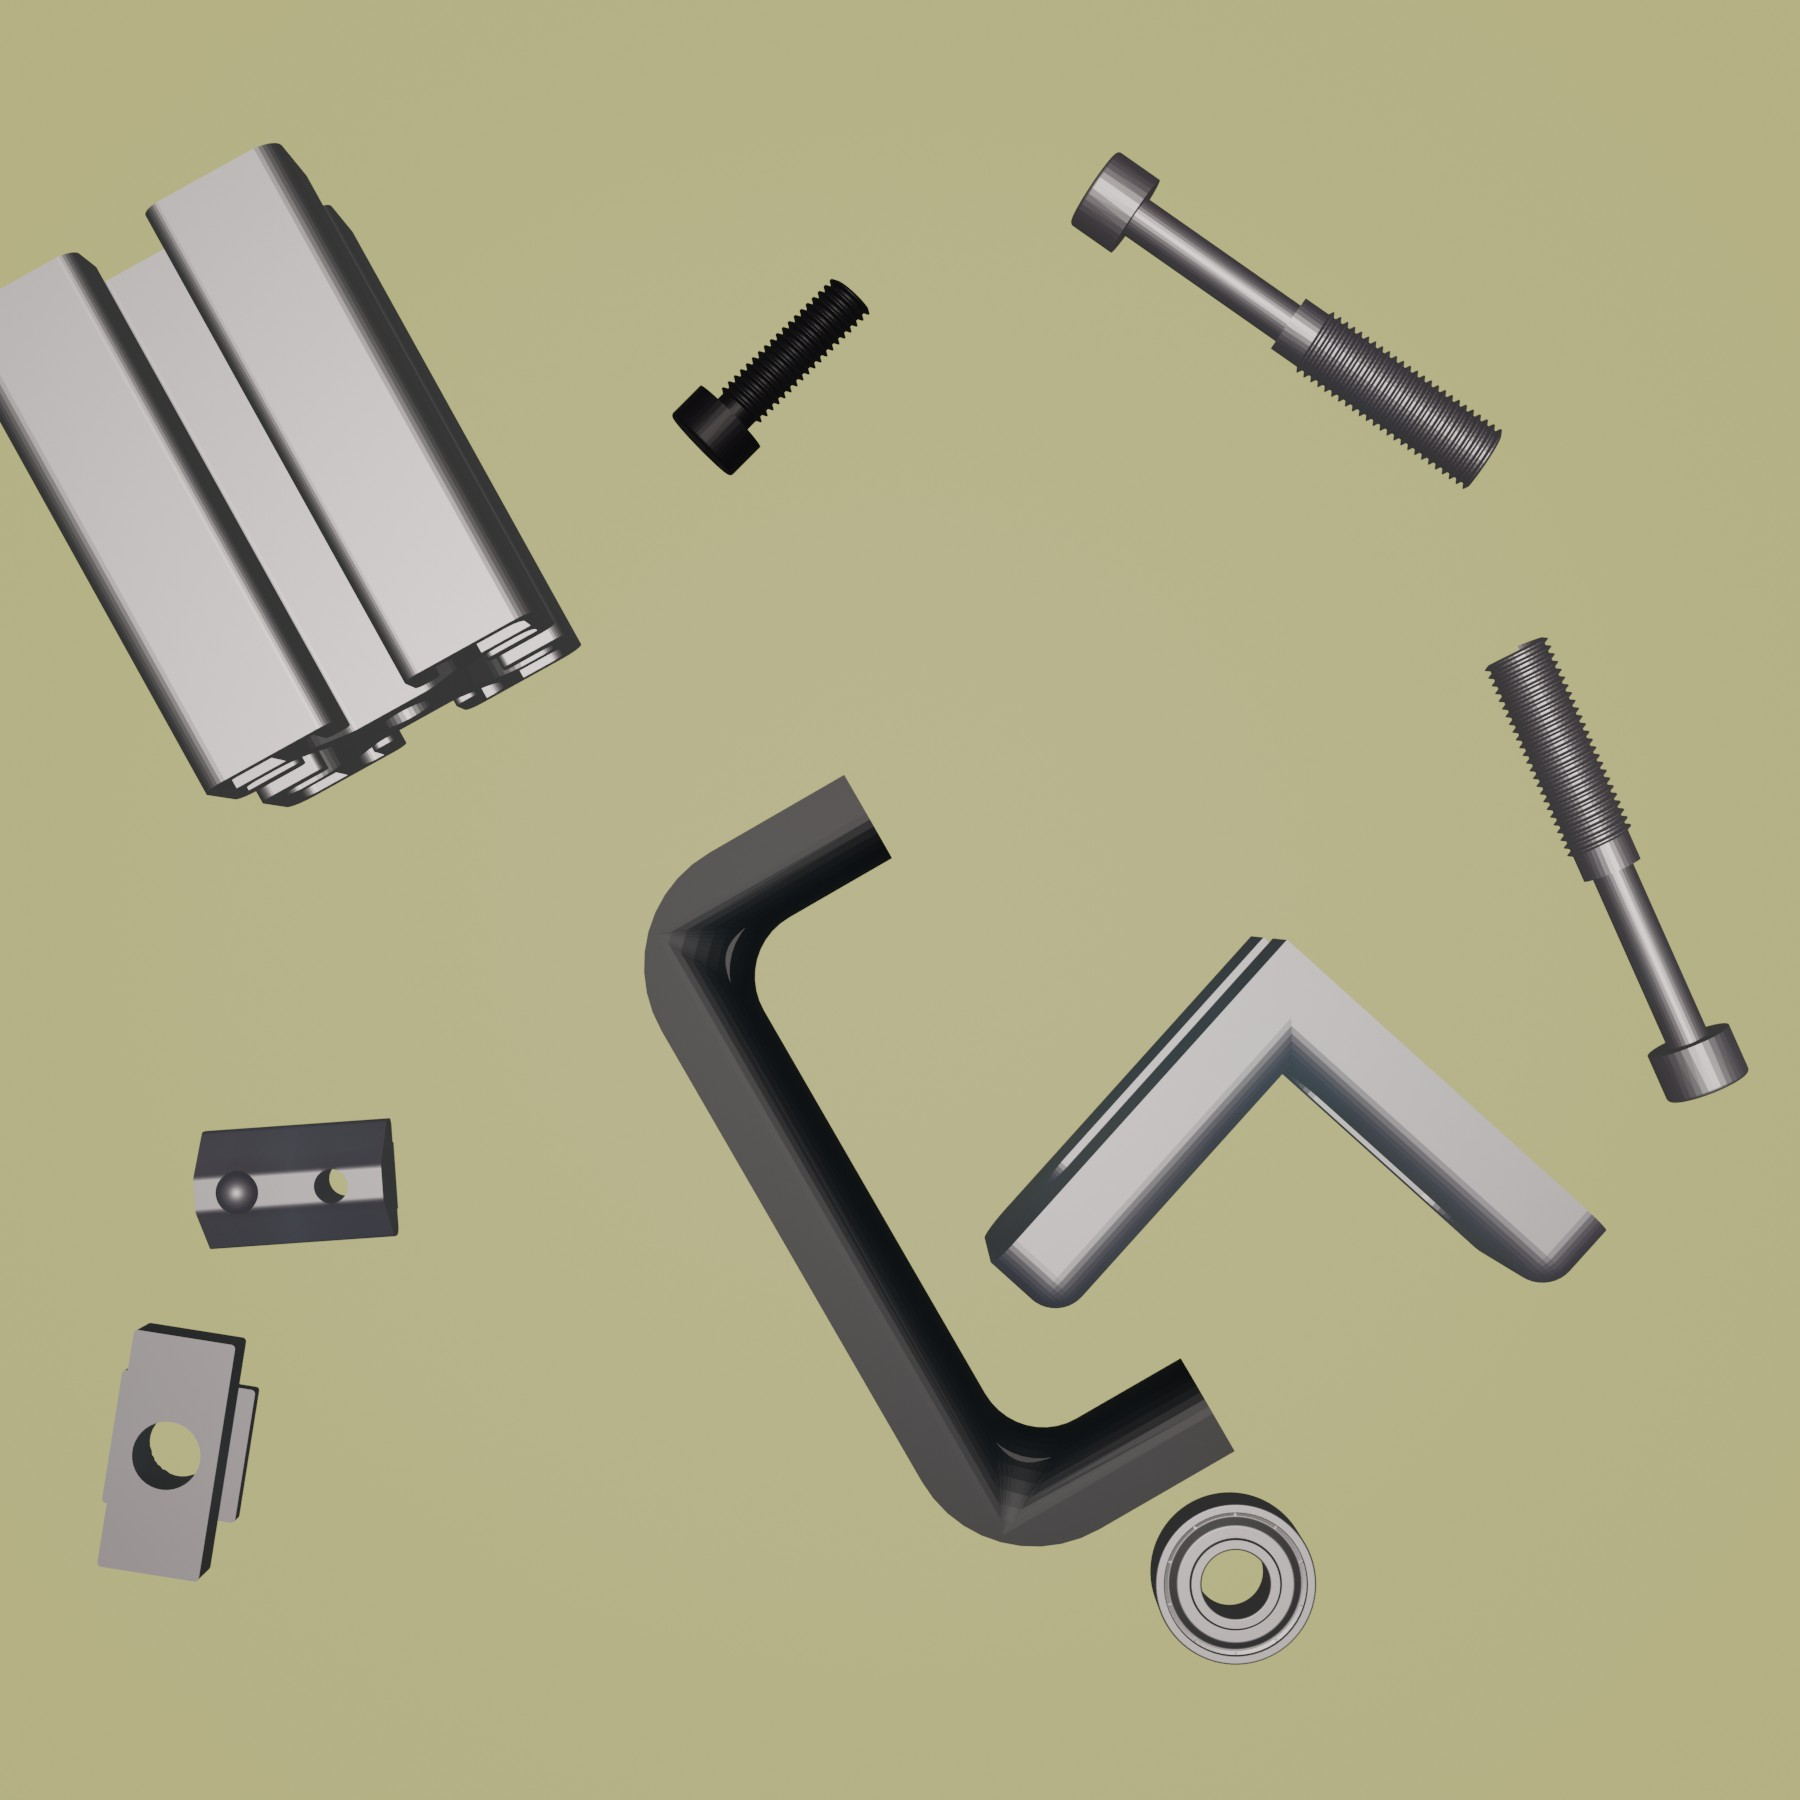Aluminium Extension: (2, 138, 580, 808)
Ball Bearing: (1147, 1488, 1317, 1665)
Multiwinkel: (986, 935, 1609, 1310)
Pull Handle: (643, 770, 1236, 1549)
Shoulder Socket Head Cap Screw: (1066, 152, 1507, 491), (1484, 631, 1751, 1108)
Socket Head Cap Screw: (669, 279, 869, 476)
T Nut Square: (92, 1315, 262, 1584)
T Spring Nut: (193, 1113, 402, 1253)
